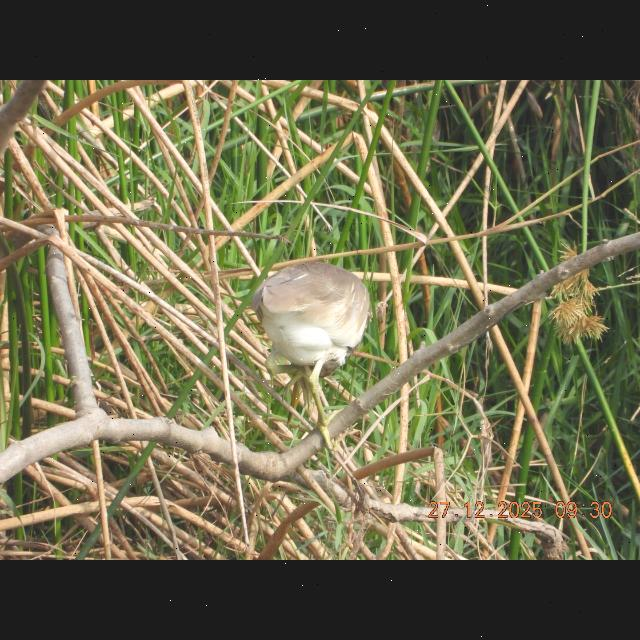heron: (258, 259, 368, 449)
